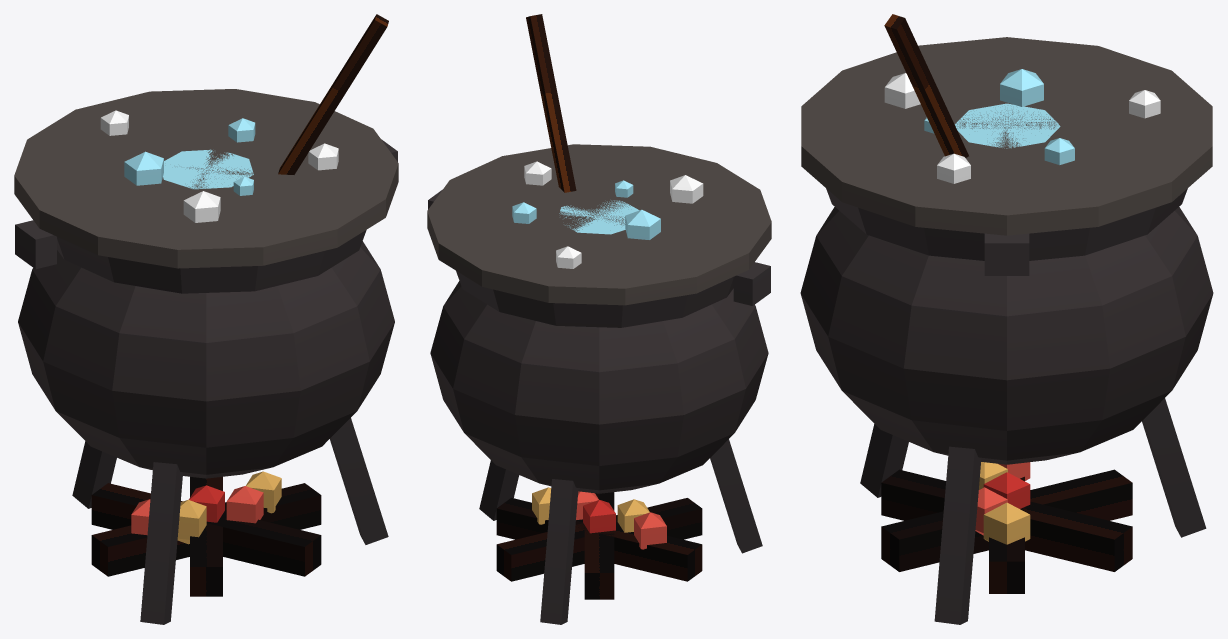
The model's file is cauldron_blue.glb.
The picture shows the model from 3 angles, left to right: view 1: azimuth 30°, elevation 25°; view 2: azimuth 150°, elevation 25°; view 3: azimuth 270°, elevation 25°; orthographic projection. The views are drawn at different scales.
Parts seen in each view (by area): view 1: cauldron_blue; view 2: cauldron_blue; view 3: cauldron_blue.
Boxes of the visible parts, left/top/right/bottom form: cauldron_blue: left=14, top=14, right=398, bottom=624; cauldron_blue: left=427, top=14, right=771, bottom=624; cauldron_blue: left=800, top=14, right=1213, bottom=624.
Size of the model in its own units: 1.02 by 1.47 by 0.92.
Materials: 3 (1 with a texture image).
